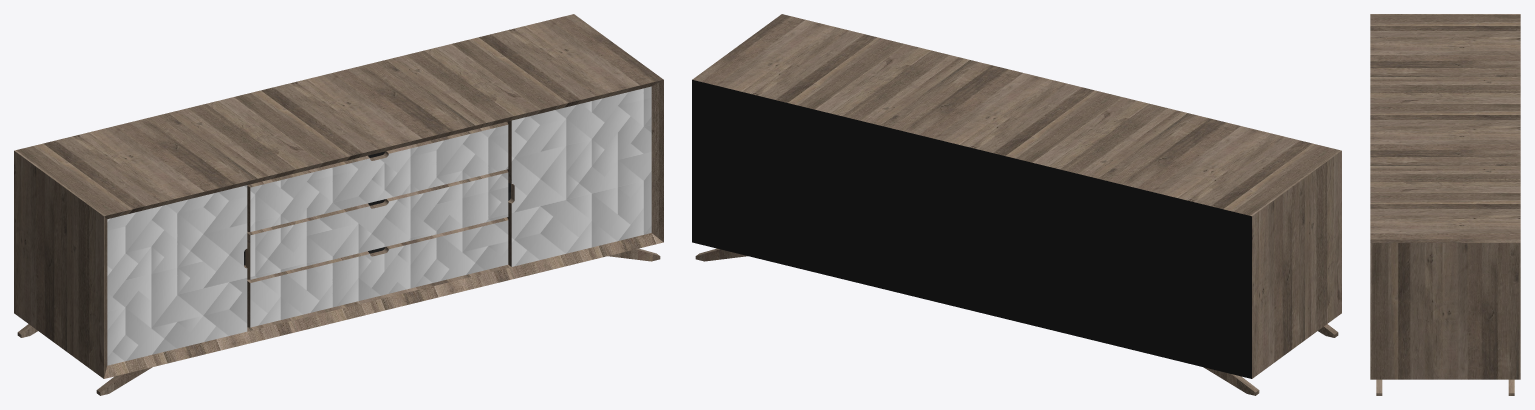
Rendered from tv_cabinet_1.glb.
The picture shows the model from 3 angles, left to right: view 1: azimuth 30°, elevation 25°; view 2: azimuth 150°, elevation 25°; view 3: azimuth 270°, elevation 25°; orthographic projection. The views are drawn at different scales.
Visible parts, largest first — view 1: mesh_0, mesh_0_2; view 2: mesh_0_1, mesh_0; view 3: mesh_0.
Part boxes in pixels (x1,y1,x2,y2): mesh_0: [14, 14, 663, 395]; mesh_0_2: [107, 86, 651, 365]; mesh_0_1: [692, 79, 1251, 378]; mesh_0: [692, 14, 1341, 395]; mesh_0: [1370, 14, 1520, 395].
Bounding box in the file's own units: 1.8 × 0.56 × 0.5.
3 materials, 2 textured.
